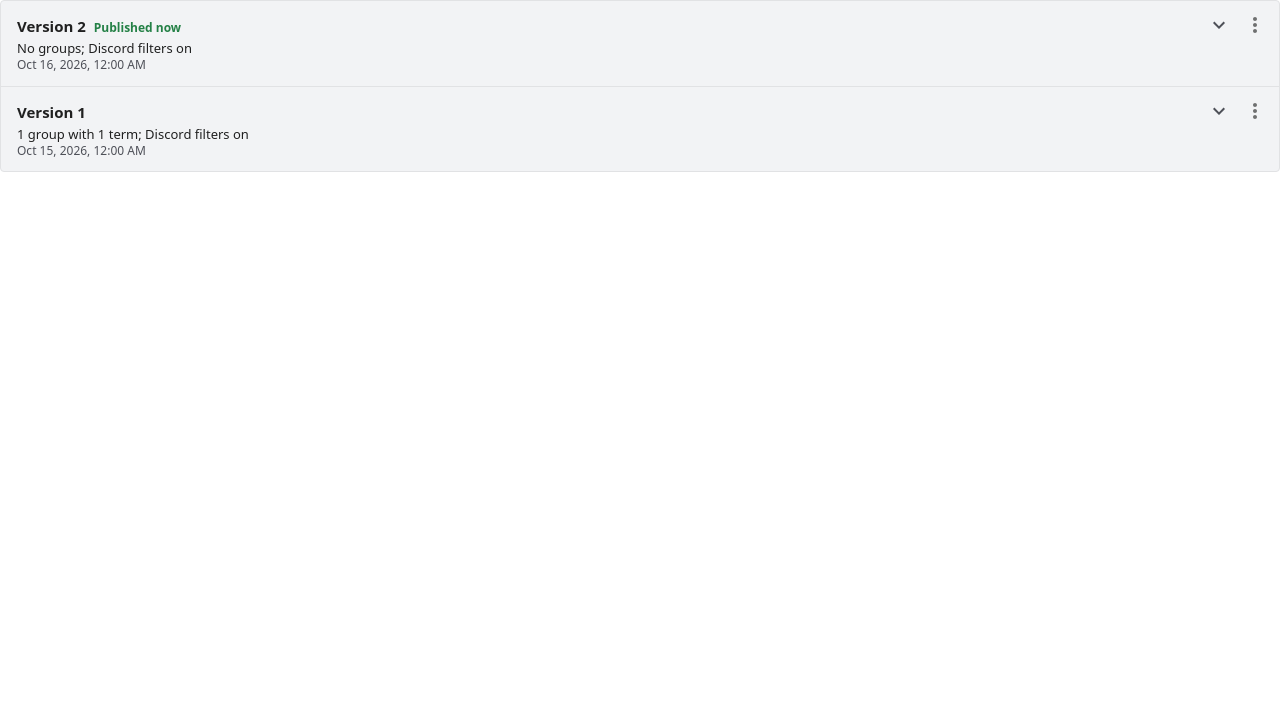
Test: Versions on a phone › opens the actions with a long press, and the lifted finger is not a tap
Press the mouse on the button "Version 1" at (47, 112), box x1=1 y1=87 x2=1235 y2=171
Wait 500 ms
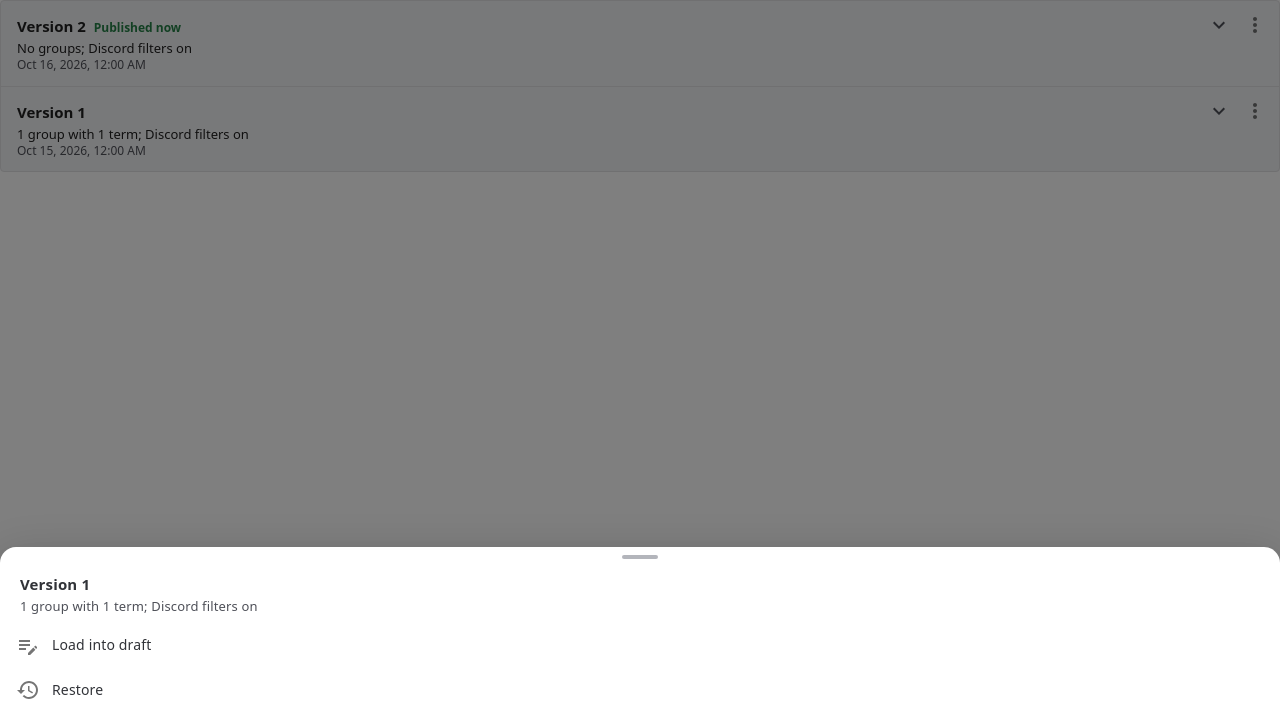
Check: the dialog "Version 1" is shown, box x1=0 y1=547 x2=1279 y2=719
